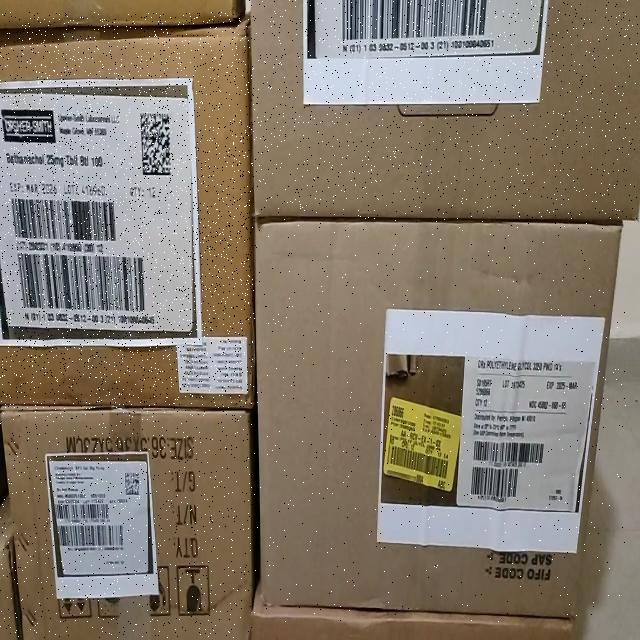BoxFace: (252, 214, 626, 622), (0, 12, 254, 408), (249, 0, 638, 220), (0, 404, 254, 638)
